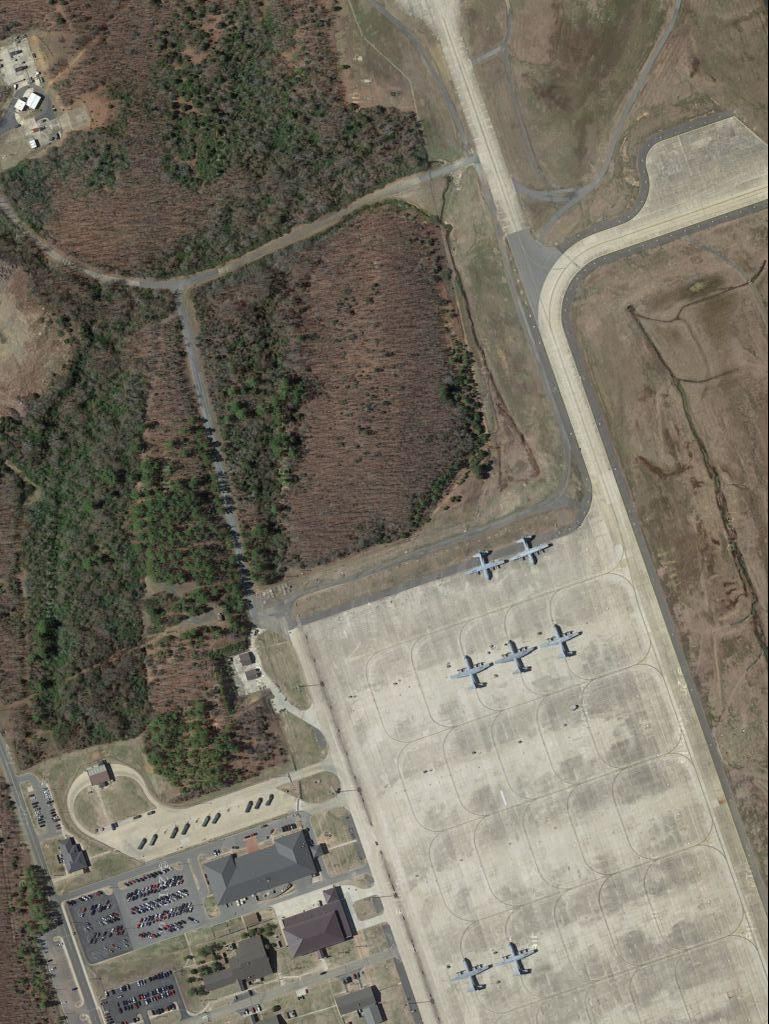C-130: (493, 939, 543, 982), (495, 634, 539, 681), (449, 652, 496, 695), (538, 622, 586, 664), (449, 956, 495, 998), (465, 546, 508, 586), (508, 530, 553, 567)
